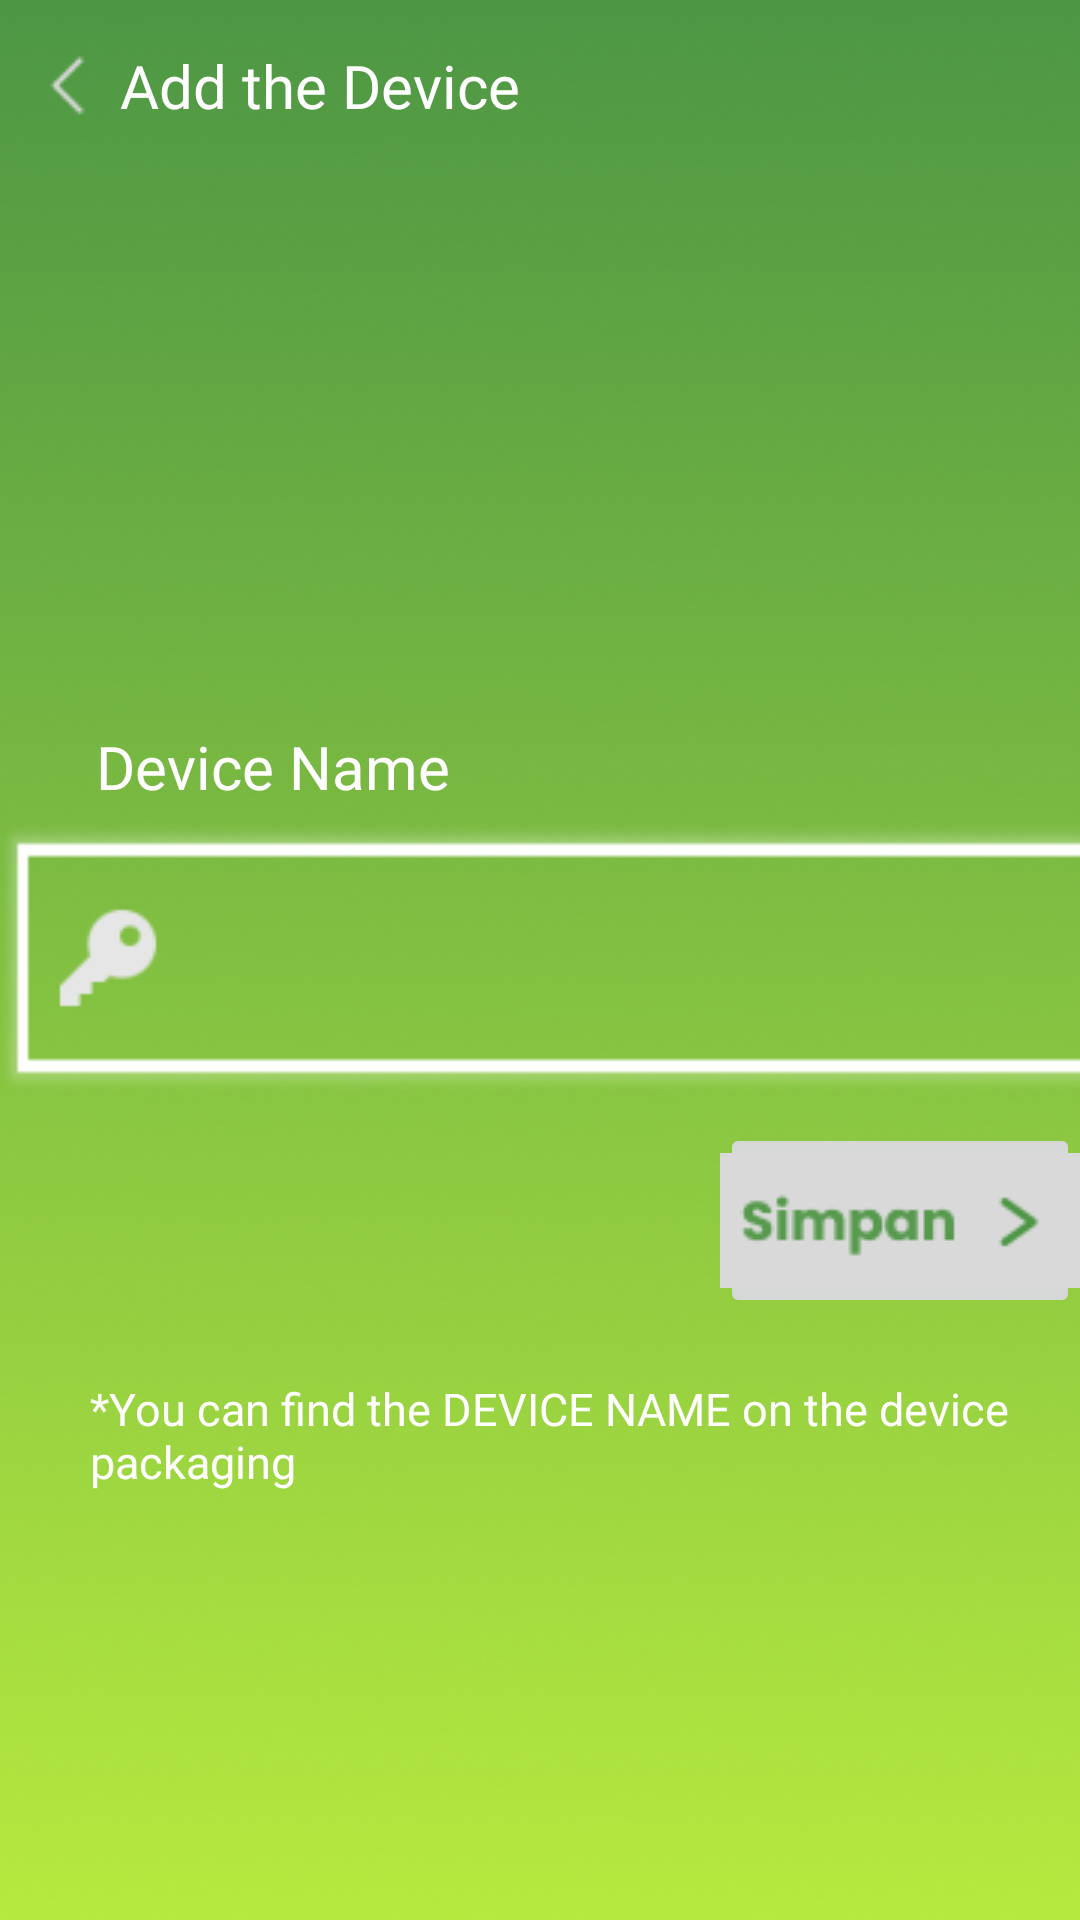

Named icons in this screenshot (1080x1920) and their centers, (x=x, y=y):
back: (x=67, y=85)
